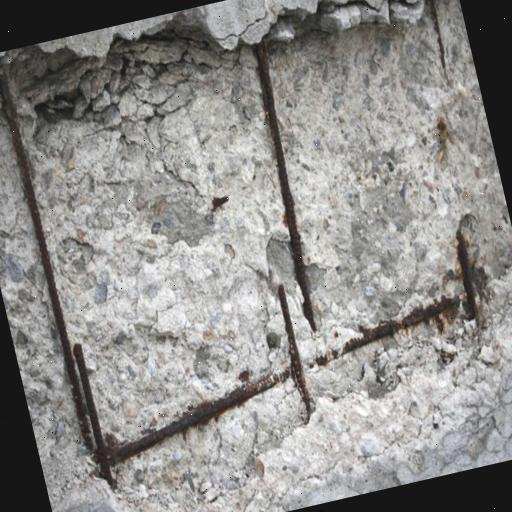spalling: (0, 0, 512, 495)
